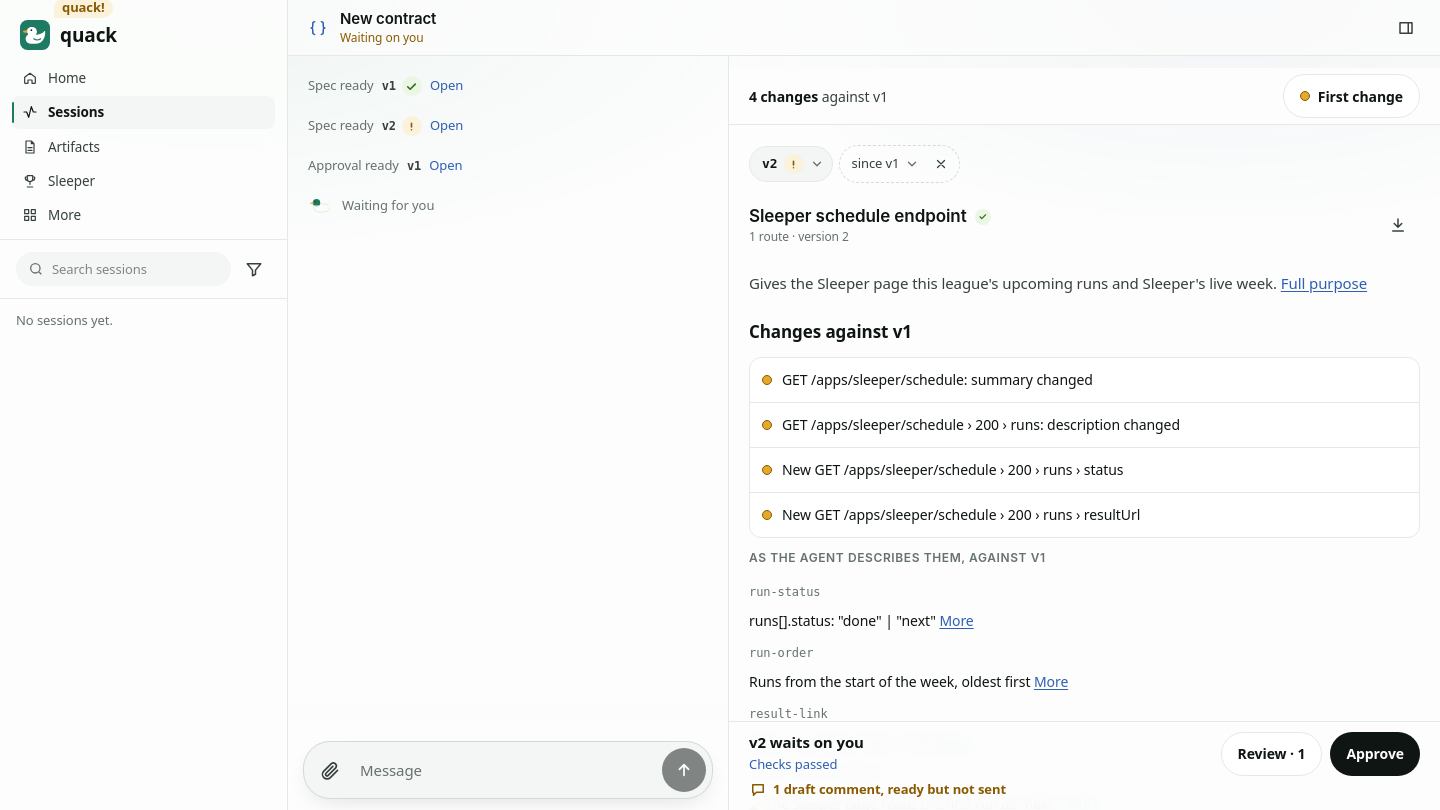
Test: a draft a failed send left held offers Release, which frees it
Expected: the element named "Approval" shows "1 draft", [729, 721, 1439, 809]
Click the button "Review · 1" at (1271, 754), box [1220, 732, 1322, 776]
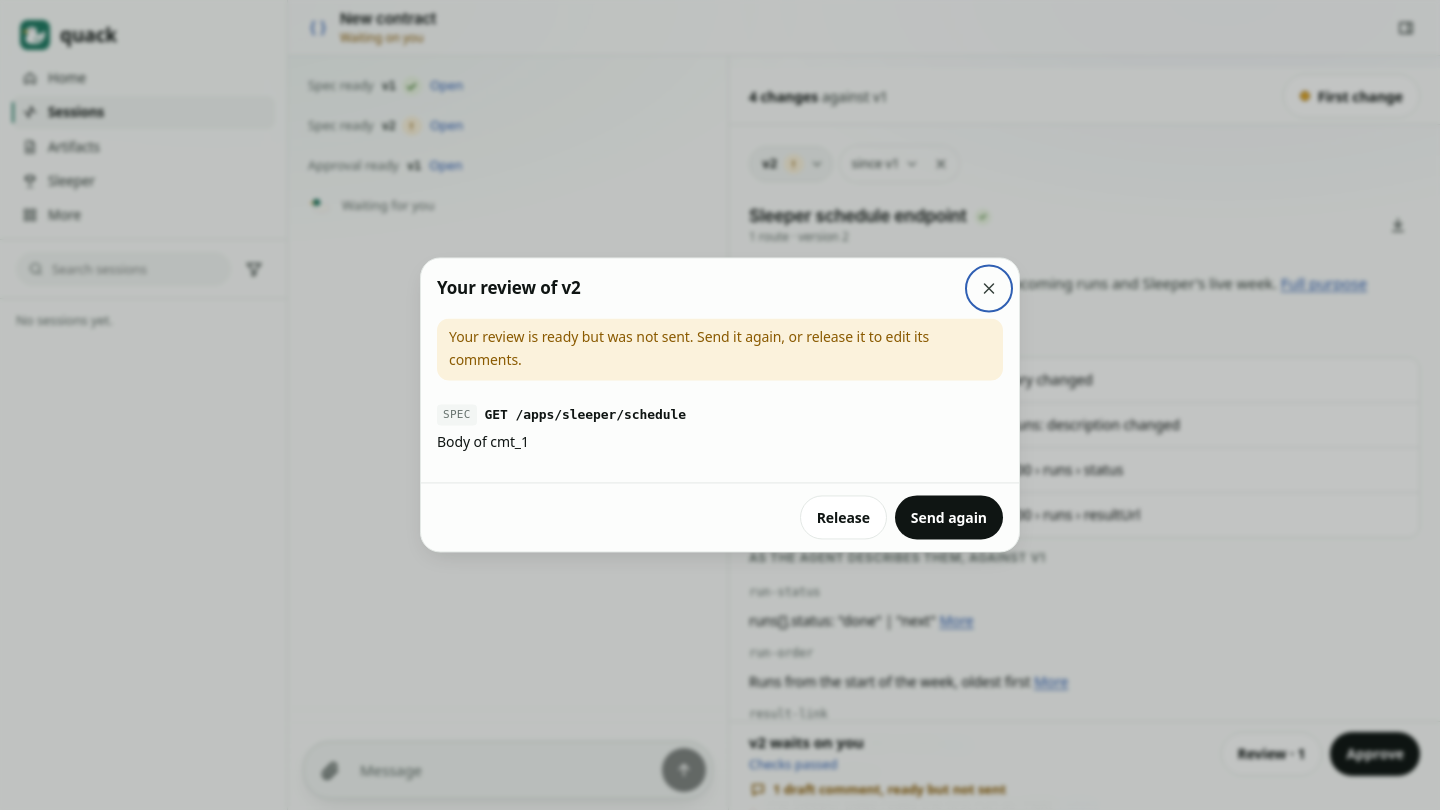
Expected: the element named "Approval" shows "1 draft comment, ready but not sent", [729, 721, 1439, 809]
Expected: the message shows "Your review is ready but was not sent. Send it again, or release it to edit its comments.", [437, 318, 1003, 380]
Click the button "Release" at (843, 518), box [800, 496, 887, 540]
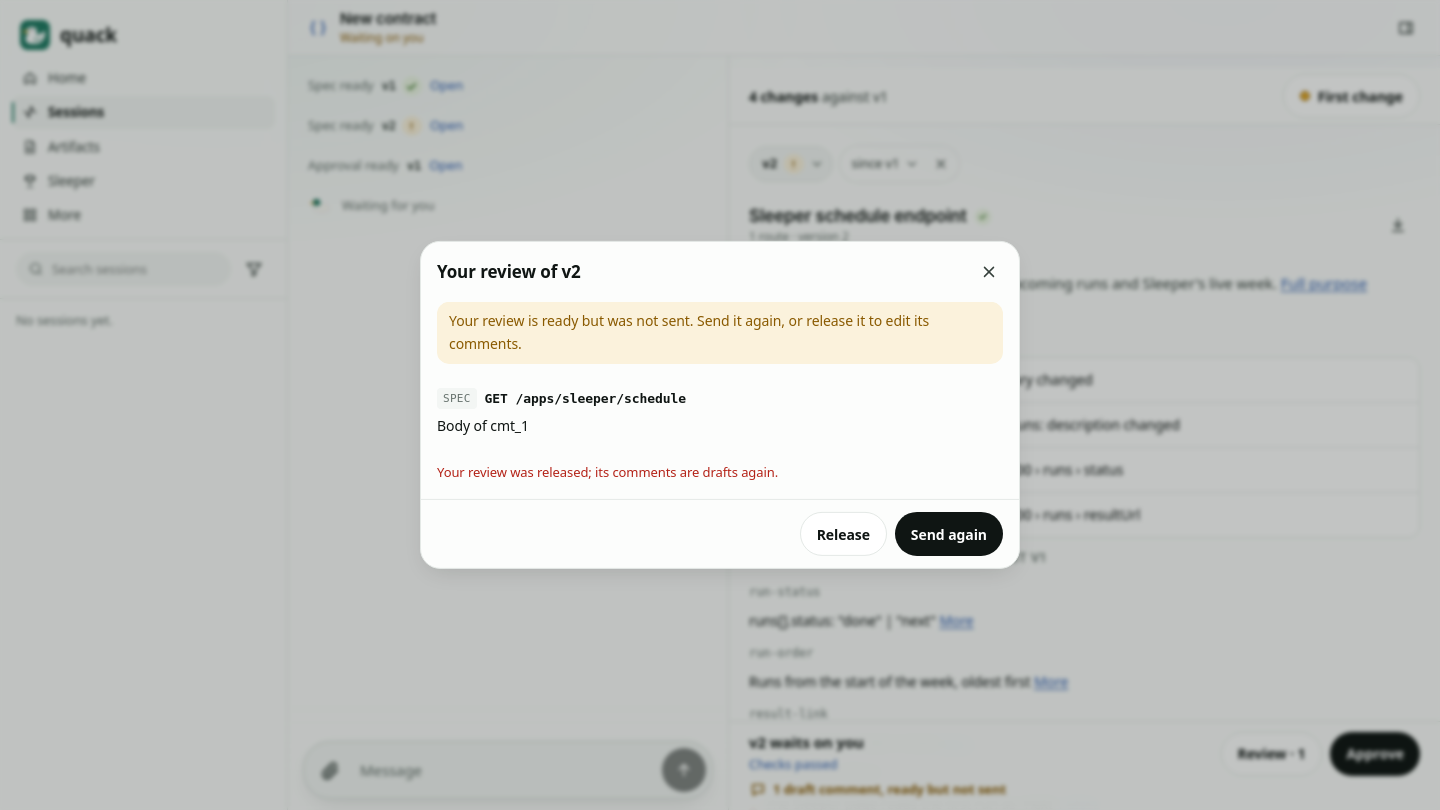
Expected: the message "Your review was released; its comments are drafts again." is shown, [437, 463, 778, 481]
